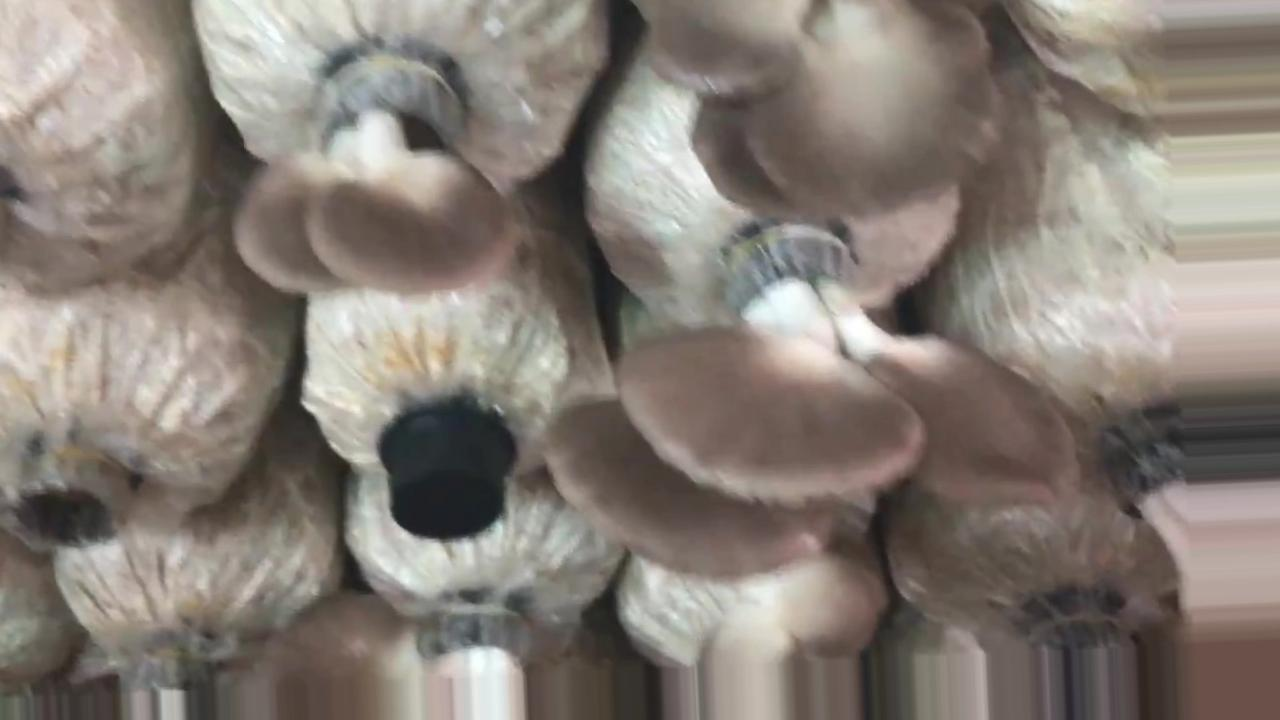nam: (553, 228, 1064, 573), (657, 1, 992, 217), (236, 49, 514, 295)
